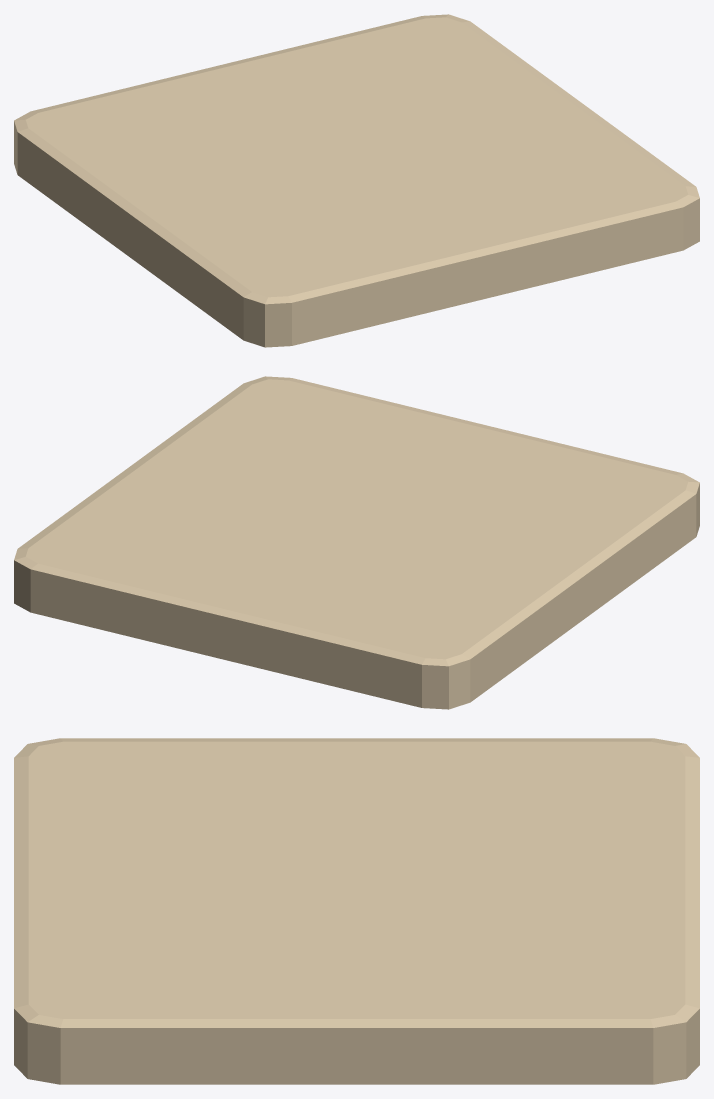
File: pan.fbx
The picture shows the model from 3 angles, top to bottom: view 1: azimuth 30°, elevation 25°; view 2: azimuth 150°, elevation 25°; view 3: azimuth 270°, elevation 25°; orthographic projection. The views are drawn at different scales.
Parts seen in each view (by area): view 1: 立方体; view 2: 立方体; view 3: 立方体.
Part boxes in pixels (x1,y1,x2,y2): 立方体: (14, 14, 699, 347); 立方体: (14, 376, 699, 709); 立方体: (14, 738, 699, 1084).
Bounding box in the file's own units: 1250 × 125 × 1250.
